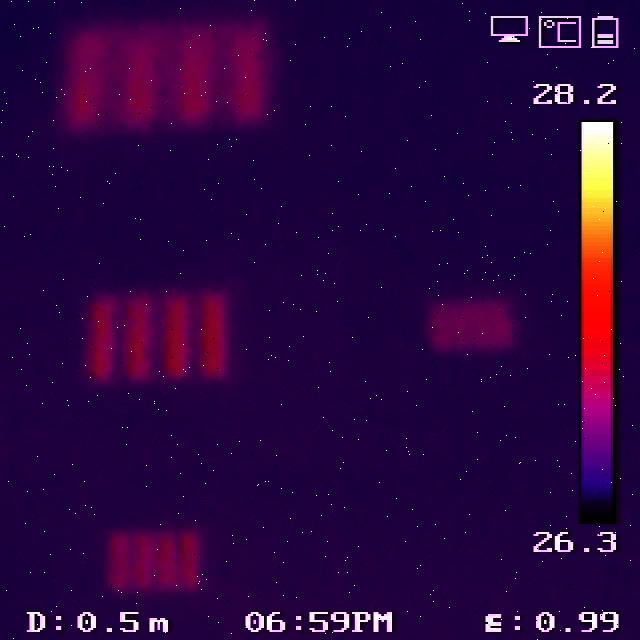Distinguishable 4-bar target: (85, 287, 234, 381)
Indistinguishable 4-bar target: (426, 297, 518, 350)
threshold 4-bar target: (60, 11, 268, 129), (101, 526, 206, 592)
